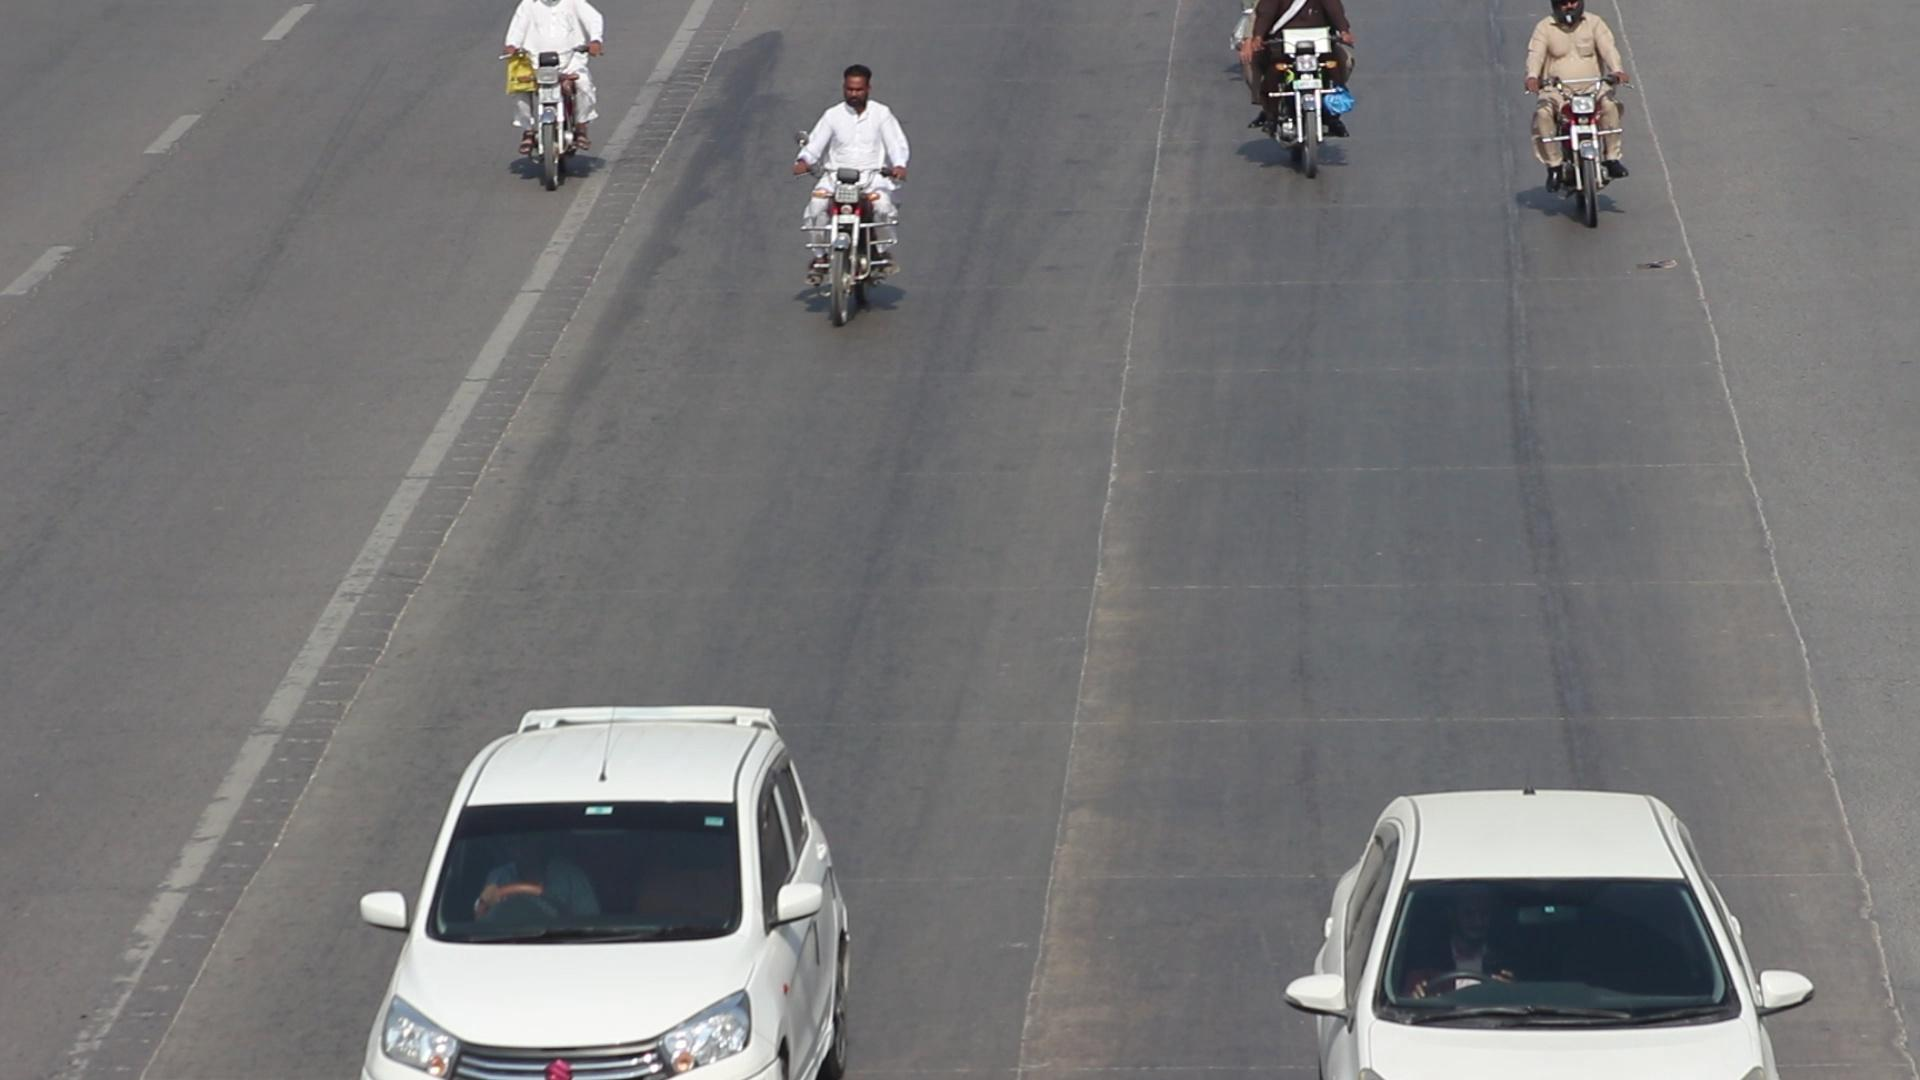windshield: (1367, 860, 1750, 1030), (418, 794, 744, 943)
